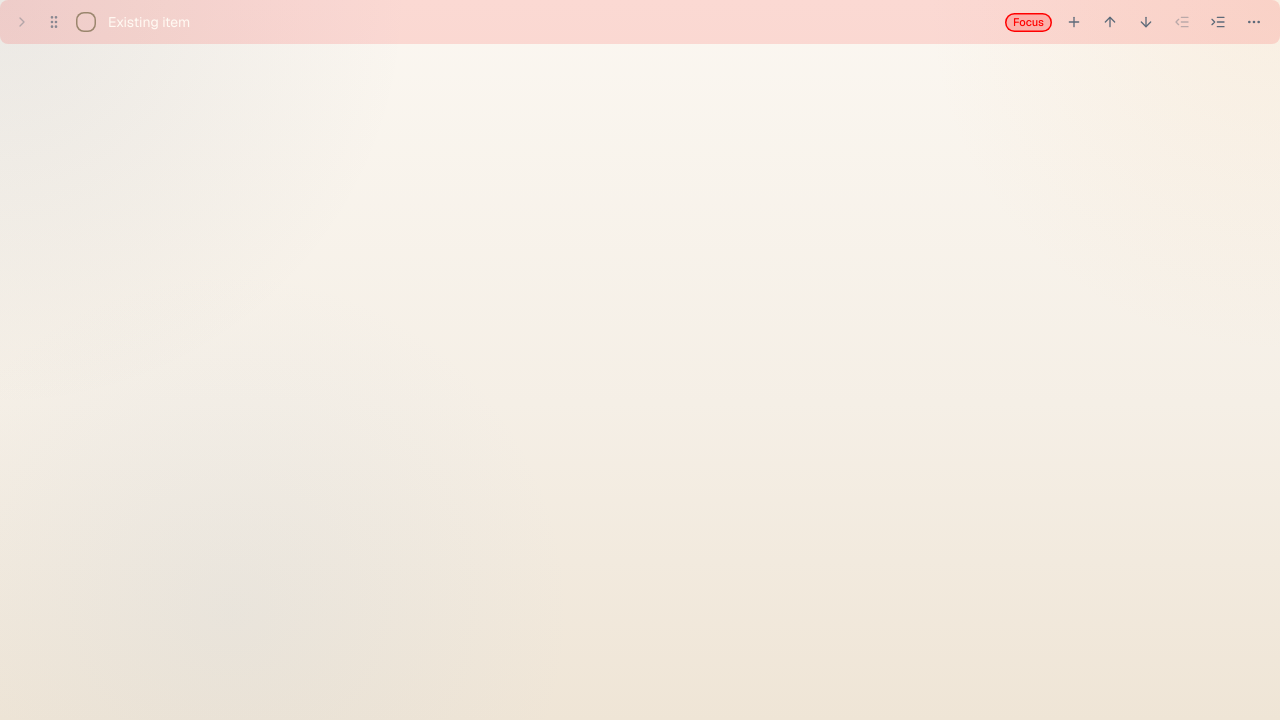
Scenario: TaskTreeEditableRow › matches the bulk action labels and icons in the more actions menu
The image size is (1280, 720).
Click the button named "More actions" at (1254, 22), box [1236,4,1272,40]
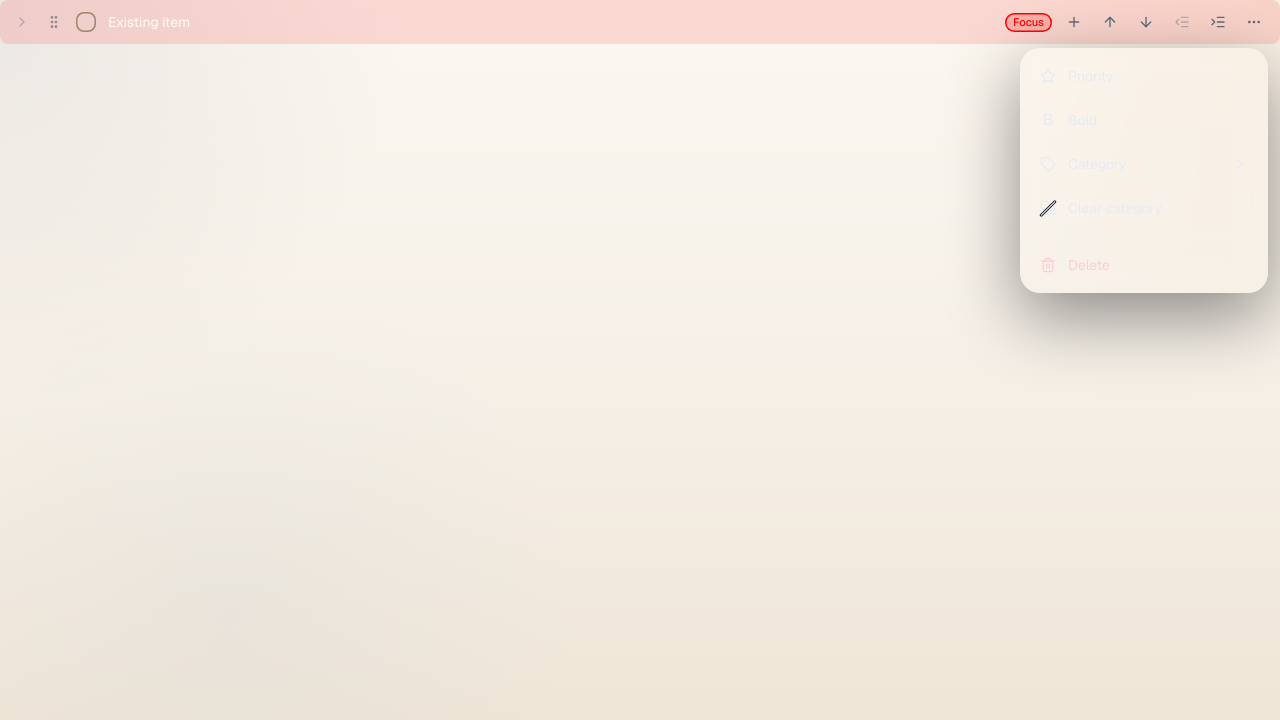
Expected: the button "Clear category" is shown, [1028,188,1260,228]
Expected: the button with aria-label "Delete item" reads "Delete", [1028,245,1260,285]
Expected: the icon with class "lucide-trash-2" is shown, [1040,257,1056,273]
